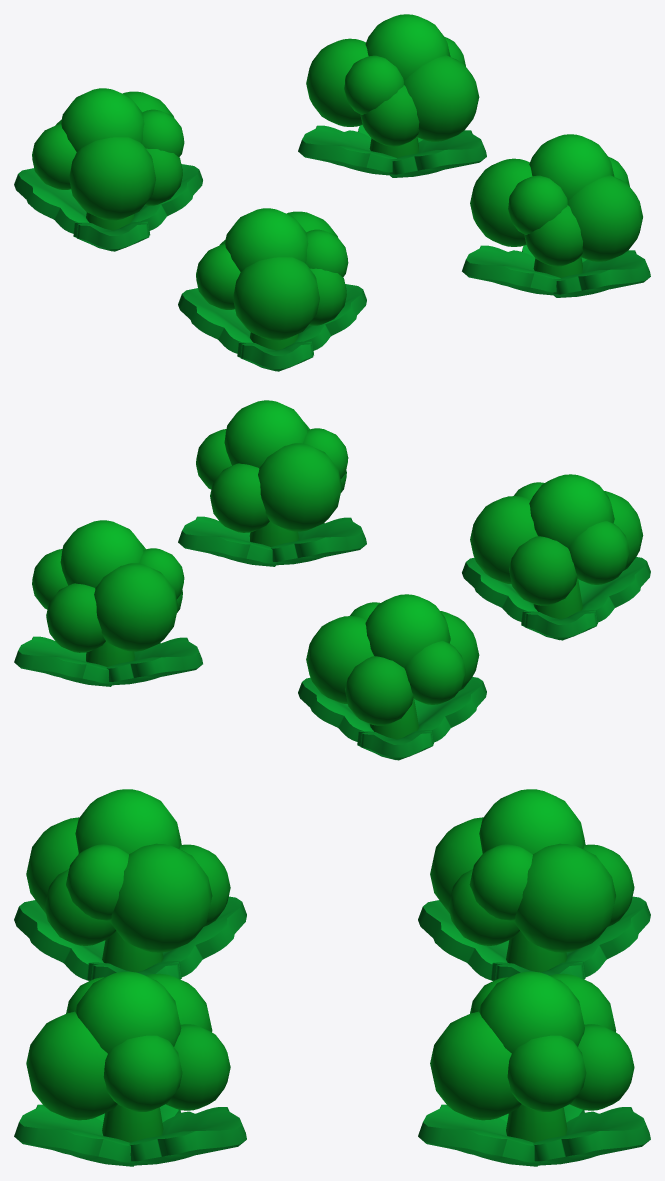
The model's file is Farm_Crop_Broccoli_Step_03.glb.
The picture shows the model from 3 angles, top to bottom: view 1: azimuth 30°, elevation 25°; view 2: azimuth 150°, elevation 25°; view 3: azimuth 270°, elevation 25°; orthographic projection. The views are drawn at different scales.
Visible parts, largest first — view 1: Farm_Crop_Broccoli_Step_03; view 2: Farm_Crop_Broccoli_Step_03; view 3: Farm_Crop_Broccoli_Step_03.
Part boxes in pixels (box(x1,y1,x2,y2)): Farm_Crop_Broccoli_Step_03: box(14, 14, 650, 371); Farm_Crop_Broccoli_Step_03: box(14, 400, 650, 760); Farm_Crop_Broccoli_Step_03: box(14, 789, 650, 1166).
Size of the model in its own units: 1.5 by 0.5273 by 1.58.
Materials: 1 (1 with a texture image).
